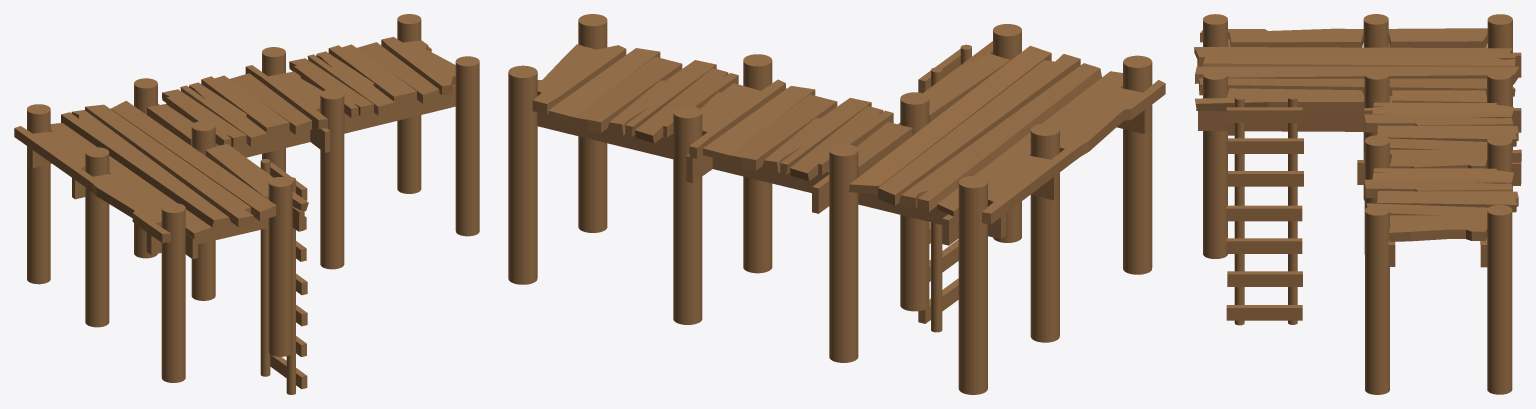
File: fishing_post.fbx
The picture shows the model from 3 angles, left to right: view 1: azimuth 30°, elevation 25°; view 2: azimuth 150°, elevation 25°; view 3: azimuth 270°, elevation 25°; orthographic projection. The views are drawn at different scales.
Parts seen in each view (by area): view 1: Plane.006, Plane.014, Plane.007, Cylinder.011, Cylinder.006, Cylinder.005, Cylinder.003, Cylinder.004, Cylinder, Plane.001, Cylinder.010, Cylinder.007 (+7 smaller); view 2: Plane.006, Plane.014, Plane.007, Cylinder.010, Cylinder, Cylinder.001, Cylinder.002, Cylinder.004, Cylinder.005, Plane.002, Cylinder.007, Cylinder.003 (+7 smaller); view 3: Plane.006, Plane.014, Plane.007, Cylinder.010, Cylinder.011, Cylinder.006, Plane, Cylinder.008, Plane.010, Cylinder.009, Plane.011, Plane.013 (+12 smaller).
Boxes of the visible parts, bbox=[...] form: Plane.006: bbox=[14, 100, 308, 242]; Plane.014: bbox=[289, 37, 455, 117]; Plane.007: bbox=[162, 65, 327, 146]; Cylinder.011: bbox=[455, 56, 479, 236]; Cylinder.006: bbox=[268, 177, 292, 356]; Cylinder.005: bbox=[161, 203, 185, 382]; Cylinder.003: bbox=[320, 89, 344, 269]; Cylinder.004: bbox=[85, 147, 109, 327]; Cylinder: bbox=[27, 104, 50, 284]; Plane.001: bbox=[72, 84, 455, 199]; Cylinder.010: bbox=[397, 14, 421, 193]; Cylinder.007: bbox=[191, 121, 215, 300]; Plane.006: bbox=[849, 41, 1165, 224]; Plane.014: bbox=[532, 44, 738, 143]; Plane.007: bbox=[689, 79, 893, 180]; Cylinder.010: bbox=[508, 65, 537, 284]; Cylinder: bbox=[958, 176, 987, 394]; Cylinder.001: bbox=[829, 144, 858, 362]; Cylinder.002: bbox=[673, 106, 702, 324]; Cylinder.004: bbox=[1030, 123, 1059, 342]; Cylinder.005: bbox=[1123, 55, 1152, 274]; Plane.002: bbox=[537, 112, 1005, 239]; Cylinder.007: bbox=[900, 92, 929, 311]; Cylinder.003: bbox=[743, 54, 772, 273]; Plane.006: bbox=[1194, 28, 1519, 111]; Plane.014: bbox=[1364, 168, 1518, 241]; Plane.007: bbox=[1364, 102, 1521, 168]; Cylinder.010: bbox=[1487, 204, 1512, 394]; Cylinder.011: bbox=[1365, 205, 1389, 394]; Cylinder.006: bbox=[1203, 69, 1227, 258]; Plane: bbox=[1198, 108, 1521, 132]; Cylinder.008: bbox=[1234, 95, 1244, 325]; Plane.010: bbox=[1226, 205, 1302, 221]; Cylinder.009: bbox=[1288, 95, 1297, 324]; Plane.011: bbox=[1226, 238, 1302, 253]; Plane.013: bbox=[1226, 305, 1302, 320].
Size of the model in its own units: 302 by 161 by 201.
